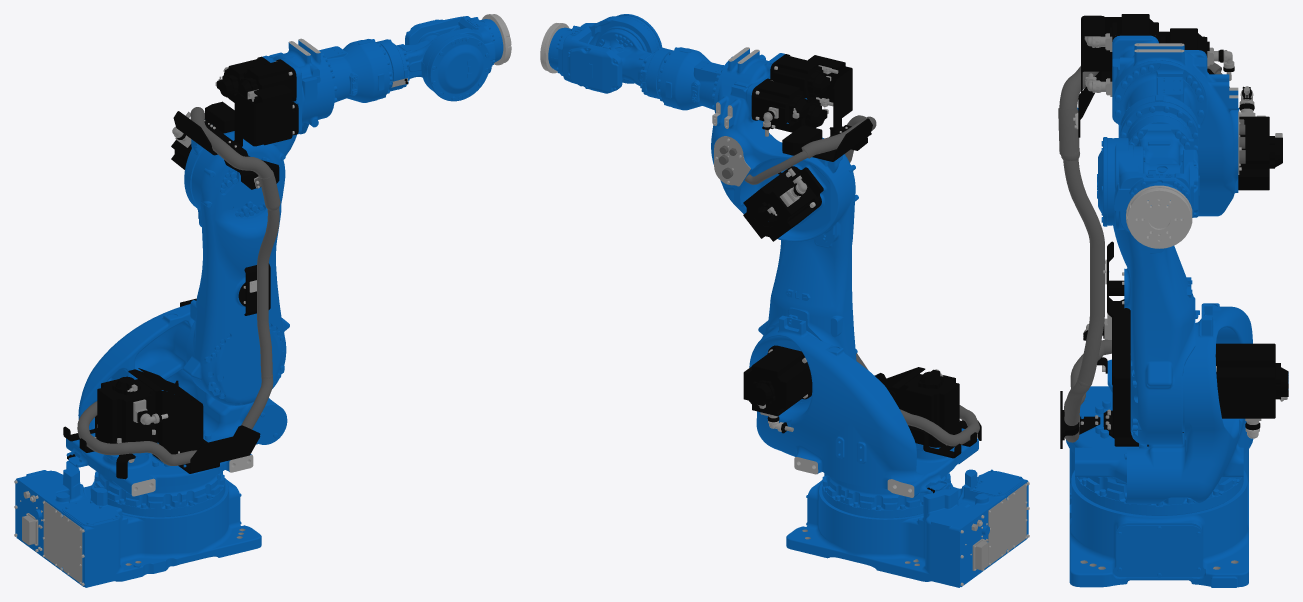
The model's file is Yaskawa_GP200S.glb.
The picture shows the model from 3 angles, left to right: view 1: azimuth 30°, elevation 25°; view 2: azimuth 150°, elevation 25°; view 3: azimuth 270°, elevation 25°; orthographic projection. The views are drawn at different scales.
Visible parts, largest first — view 1: link_1, link_0, link_2, link_3, link_5, link_4; view 2: link_3, link_1, link_0, link_2, link_5, link_4; view 3: link_1, link_3, link_0, link_2, link_5, link_6, link_4.
Part boxes in pixels (x1,y1,x2,y2): link_1: (63,298,287,496); link_0: (14,461,261,587); link_2: (183,132,289,405); link_3: (171,38,403,226); link_5: (405,16,503,101); link_4: (386,33,444,89); link_3: (646,47,876,242); link_1: (743,315,981,497); link_0: (786,469,1029,587); link_2: (758,137,858,360); link_5: (548,14,662,93); link_4: (595,29,662,96); link_1: (1060,299,1288,503); link_3: (1058,14,1282,216); link_0: (1069,449,1248,587); link_2: (1061,150,1199,444); link_5: (1097,137,1199,232); link_6: (1126,185,1192,248); link_4: (1128,123,1193,173).
Size of the model in its own units: 1.89 by 1.8 by 0.6427.
